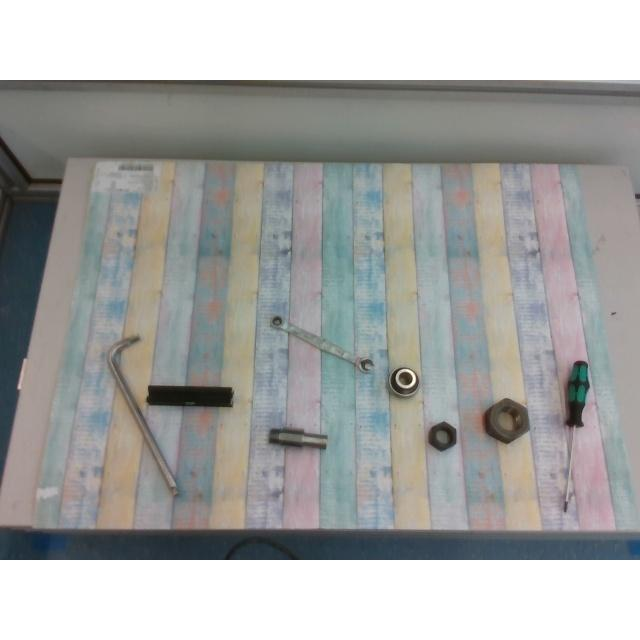AllenKey: (106, 336, 178, 497)
Axis2: (269, 427, 327, 449)
Bearing2: (388, 367, 419, 398)
F20_20_B: (148, 386, 232, 406)
M20: (428, 421, 456, 451)
M30: (484, 398, 528, 442)
Screwdriver: (563, 361, 589, 512)
Wrench: (270, 316, 374, 372)
